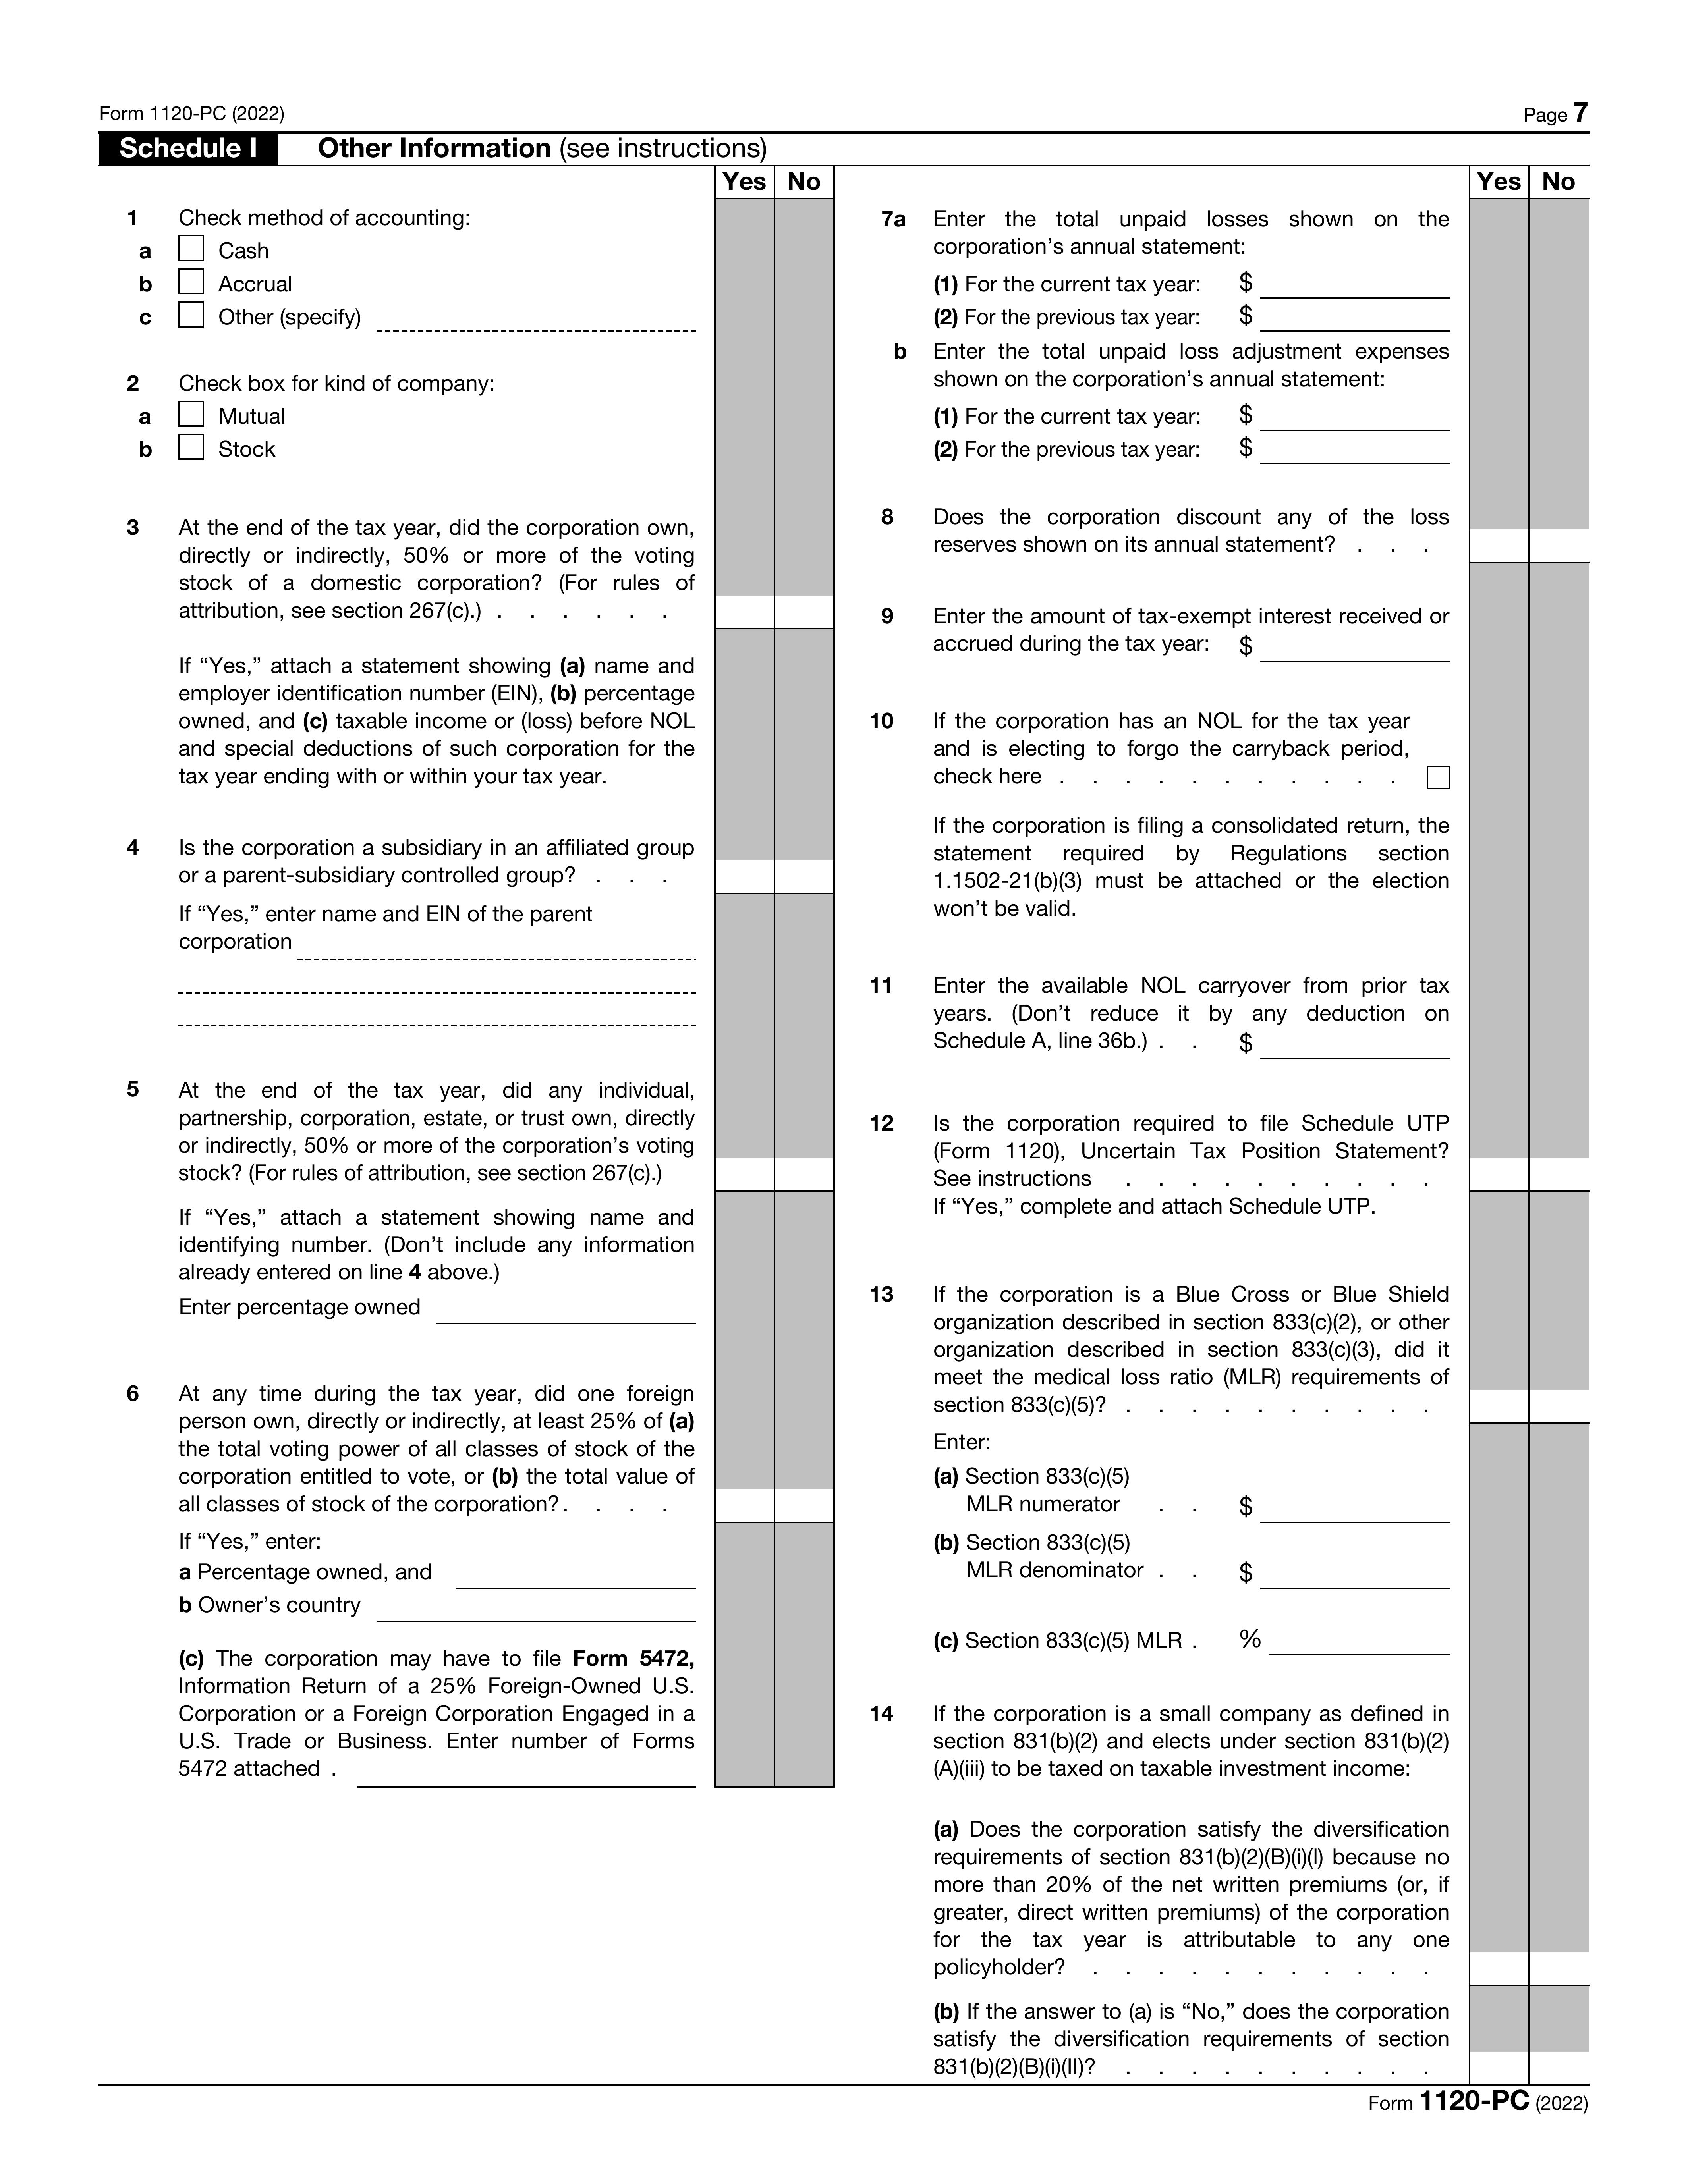table: (855, 163, 1603, 2087), (105, 170, 846, 1808)
